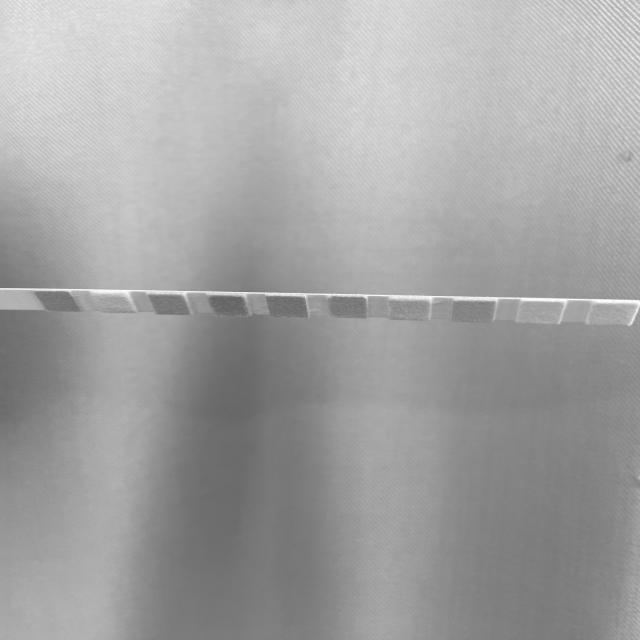Bilirubin: (98, 292, 128, 312)
Blood: (271, 296, 304, 316)
Glucose: (45, 291, 68, 310)
Ketone: (156, 295, 184, 314)
Leukocytes: (594, 304, 628, 324)
Nitrite: (520, 302, 560, 322)
Protein: (392, 299, 426, 319)
SpGravity: (213, 296, 244, 316)
Urobilinogen: (457, 302, 491, 322)
background: (0, 0, 640, 640)
pH: (332, 298, 366, 318)
strip: (0, 289, 640, 324)
